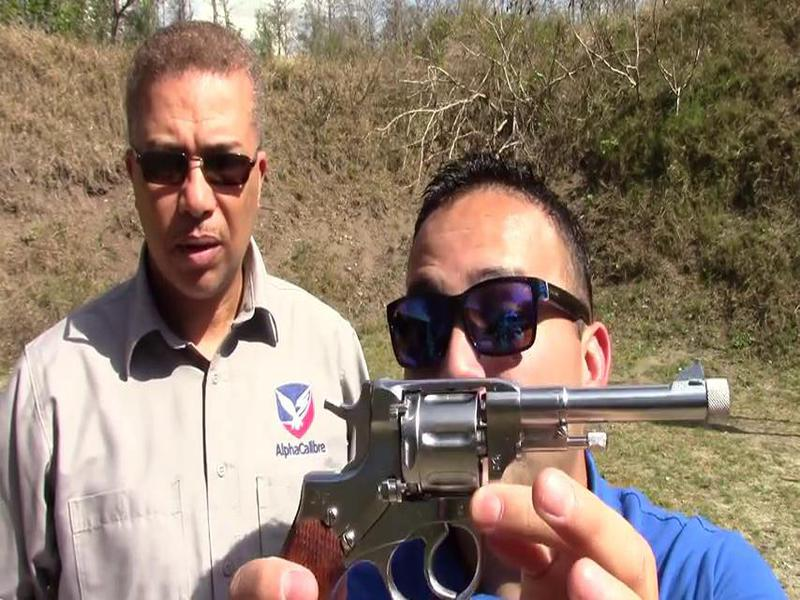Revolver: (287, 358, 757, 570)
